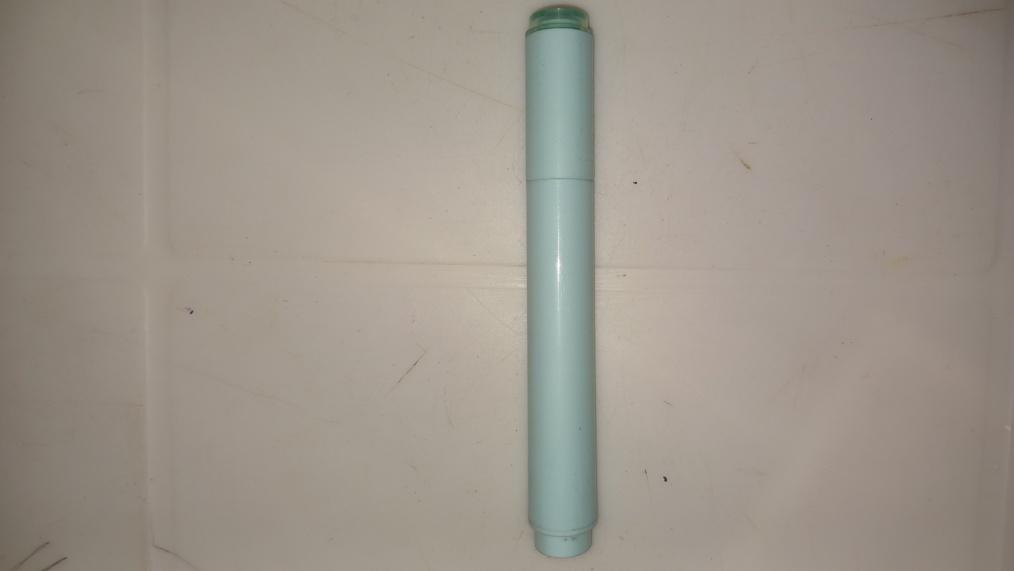Highlighter: (523, 7, 597, 563)
